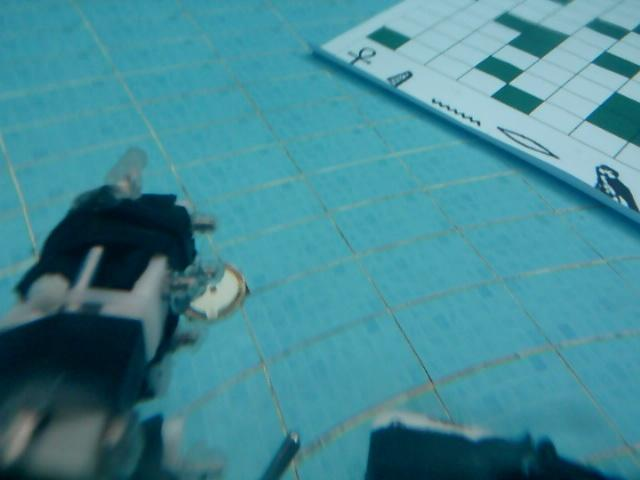Ankh: (341, 49, 381, 69)
Mouth: (498, 121, 560, 164)
Owl: (594, 155, 638, 217)
Reed: (379, 69, 416, 88)
Water: (426, 89, 486, 131)
